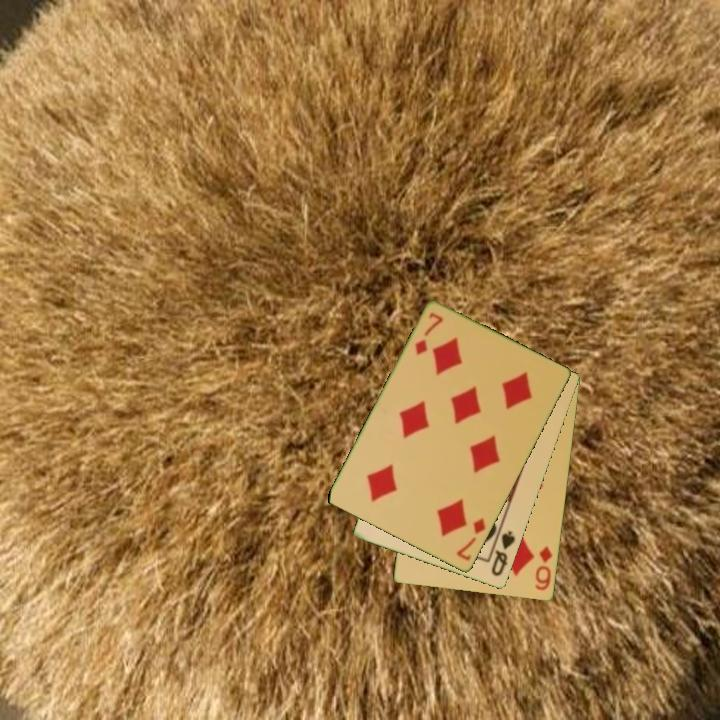6d: (532, 543, 555, 594)
7d: (453, 514, 489, 564), (411, 309, 446, 359)
Qs: (488, 527, 518, 579)
